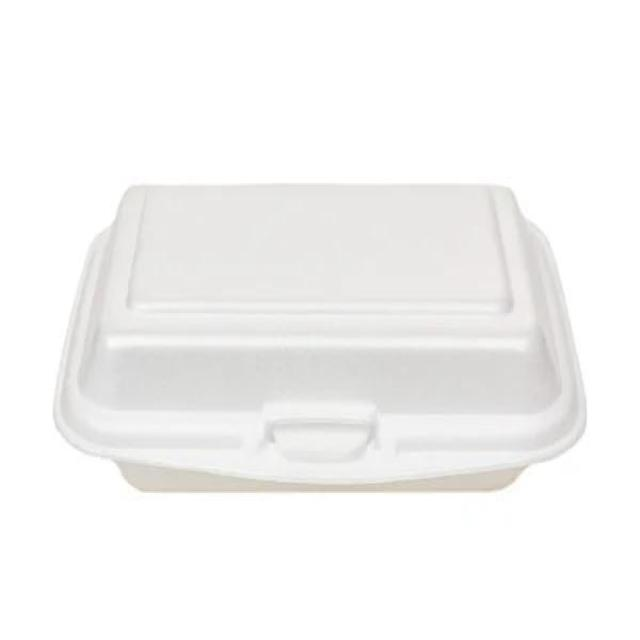styrofoam: (51, 178, 588, 496)
